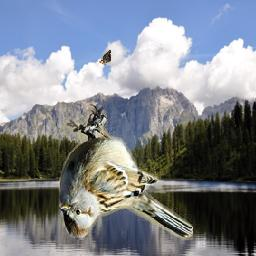Sparrow: (59, 104, 193, 240)
Woodpecker: (99, 49, 111, 65)
